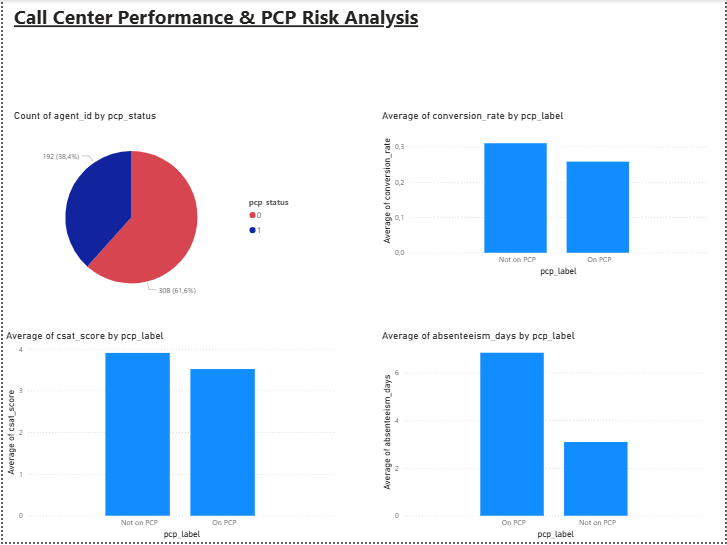

What the dashboard file says about the page in this screenshot:
{"tool":"powerbi","page":{"name":"Page 1","canvas":[1200,900],"ordinal":0},"visuals":[{"type":"pieChart","fields":{"Category":["call_center_data.pcp_status"],"Y":["CountNonNull(call_center_data.agent_id)"]},"box":[13.3,181,484.9,340.4],"z":0},{"type":"columnChart","fields":{"Y":["Avg(call_center_data.conversion_rate)"],"Category":["call_center_data.pcp_label"]},"box":[623.8,181.1,548.8,281.7],"z":1000},{"type":"columnChart","fields":{"Y":["Avg(call_center_data.csat_score)"],"Category":["call_center_data.pcp_label"]},"box":[0,547,556.1,353],"z":2000},{"type":"columnChart","fields":{"Y":["Avg(call_center_data.absenteeism_days)"],"Category":["call_center_data.pcp_label"]},"box":[623.8,547,548.8,353],"z":3000},{"type":"textbox","box":[13.3,0,697.4,71.4],"z":4000}]}

Visuals, with their boxes in screenshot pixels (x1, y1, x2, y2), scaled from the page's 1200x900 canvas onto the 727x545 screenshot:
pieChart - call_center_data.pcp_status x CountNonNull(call_center_data.agent_id): crop(8, 110, 302, 316)
columnChart - Avg(call_center_data.conversion_rate) x call_center_data.pcp_label: crop(378, 110, 710, 280)
columnChart - Avg(call_center_data.csat_score) x call_center_data.pcp_label: crop(0, 331, 337, 544)
columnChart - Avg(call_center_data.absenteeism_days) x call_center_data.pcp_label: crop(378, 331, 710, 544)
textbox: crop(8, 0, 431, 43)
